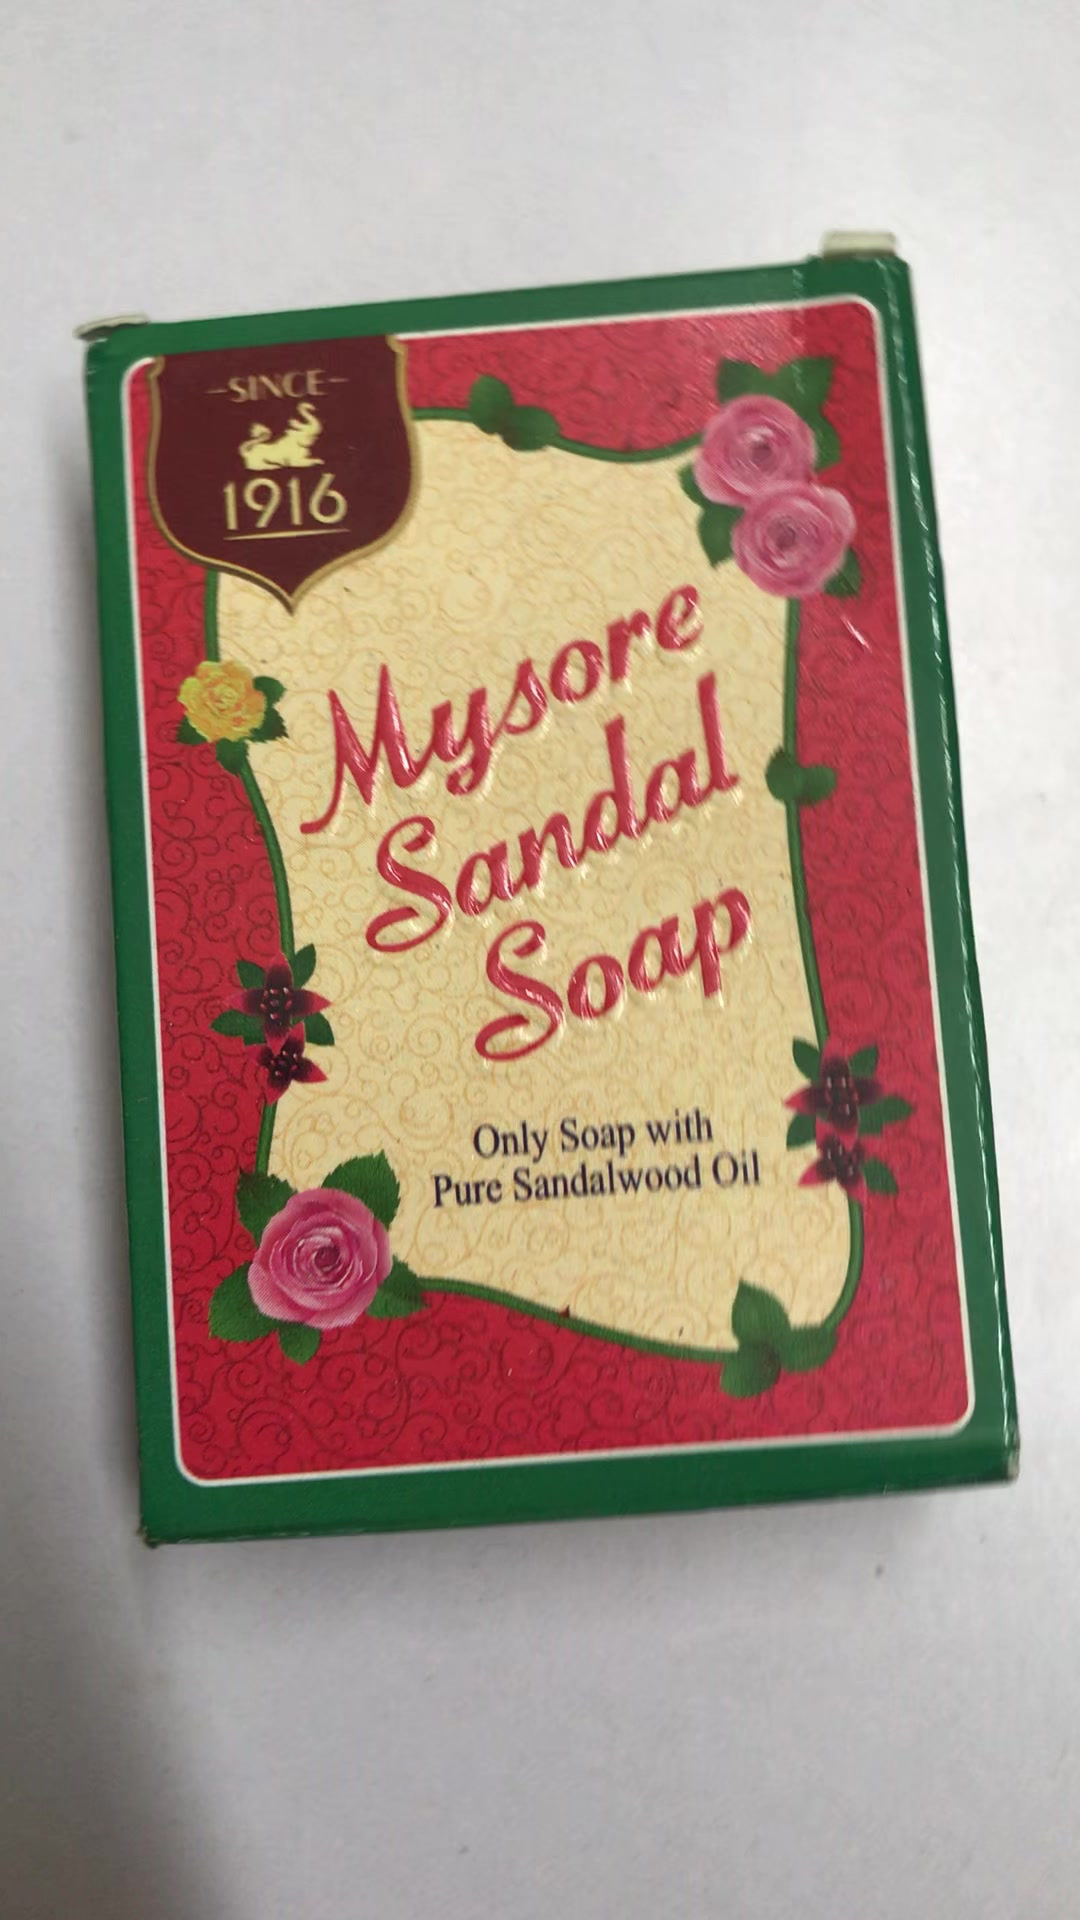mysore sandal soap: (86, 252, 1018, 1545)
